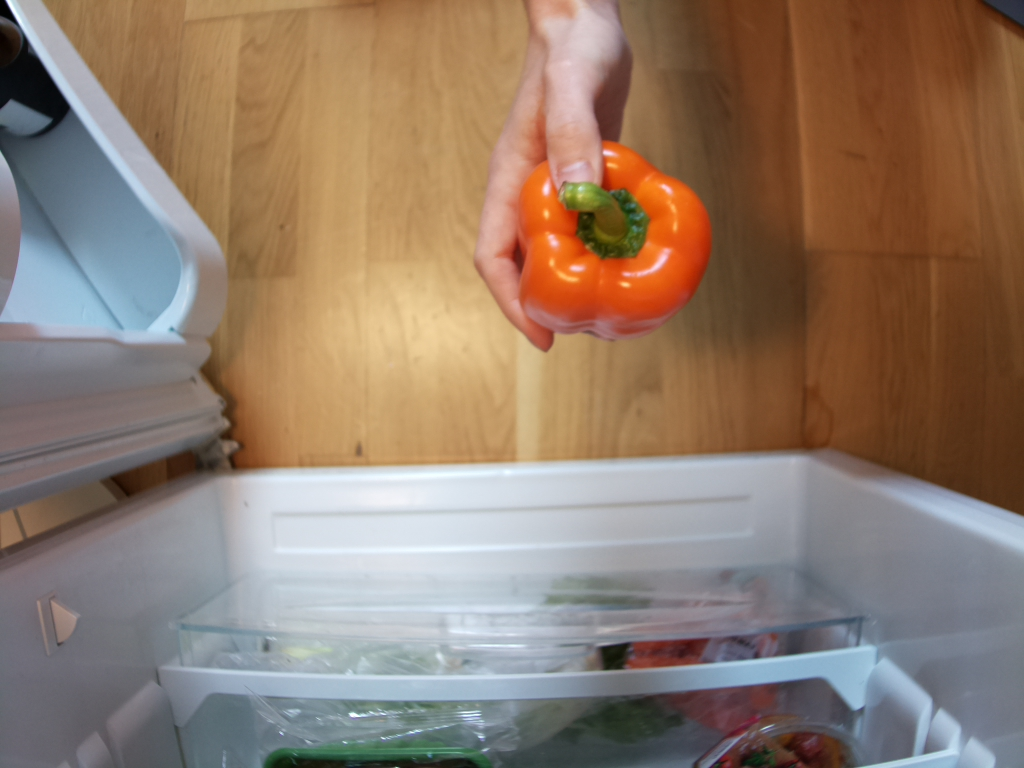pepper: (515, 140, 711, 344)
